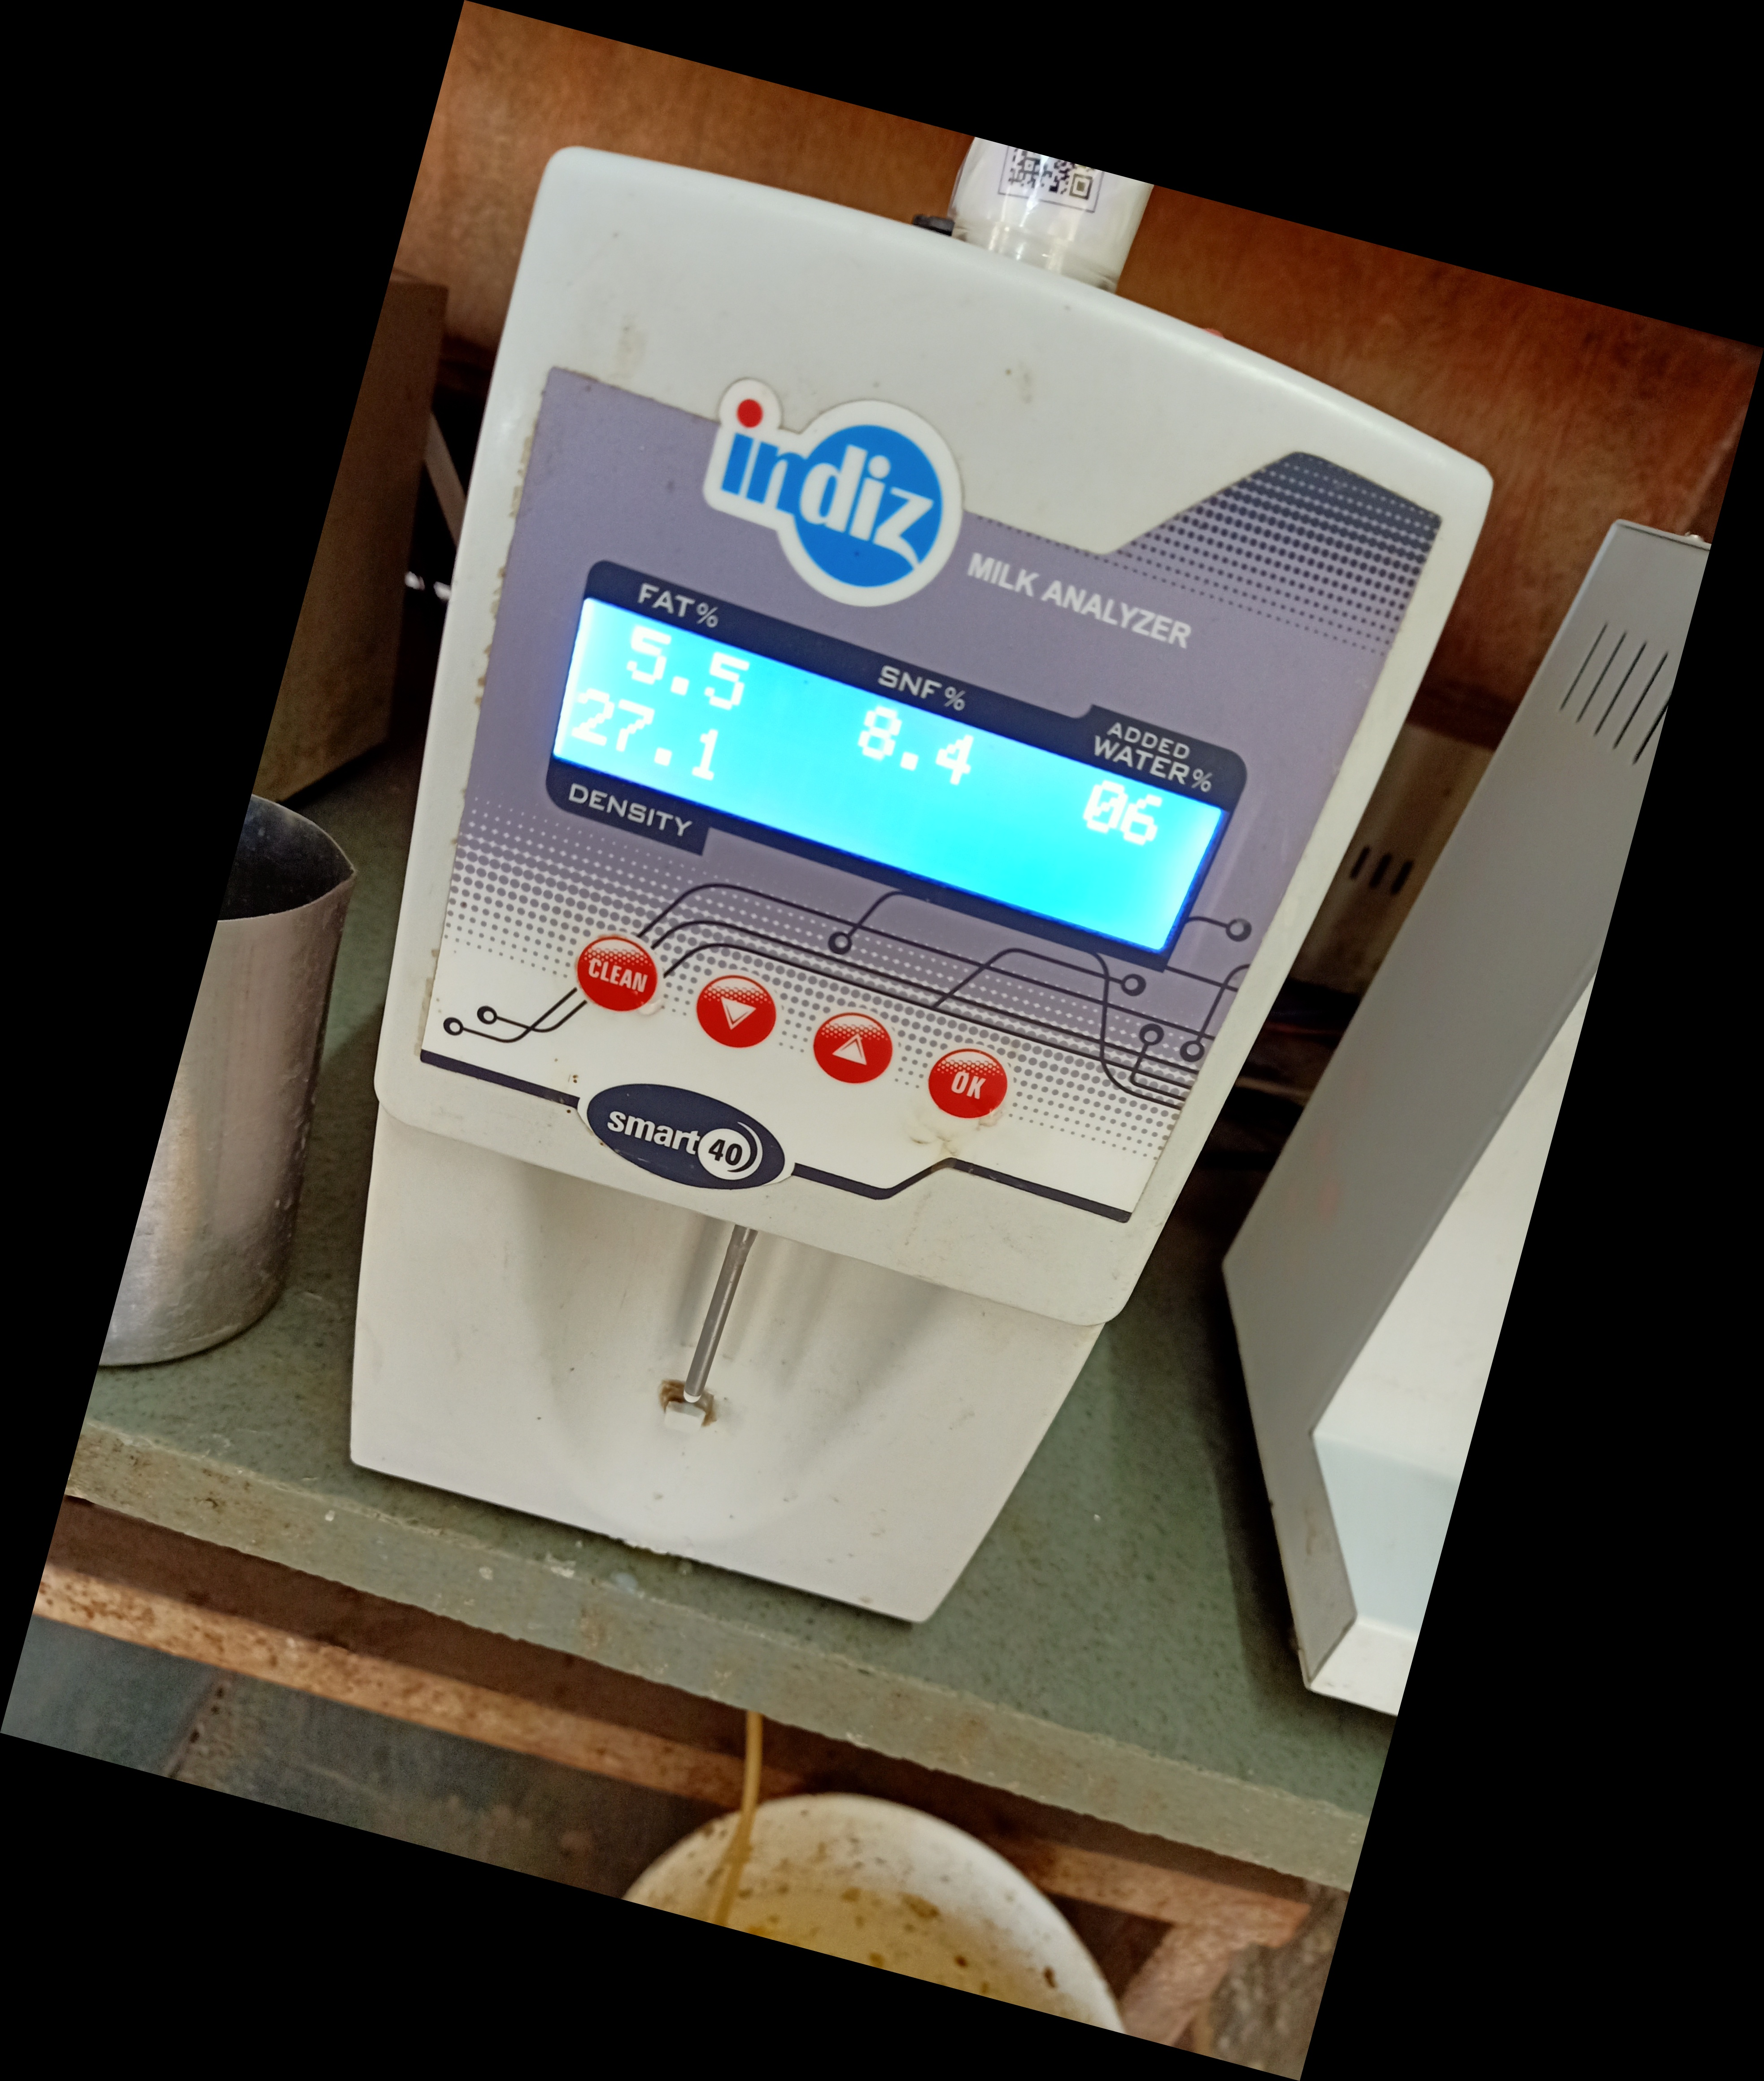lcd: (521, 541, 1265, 992)
